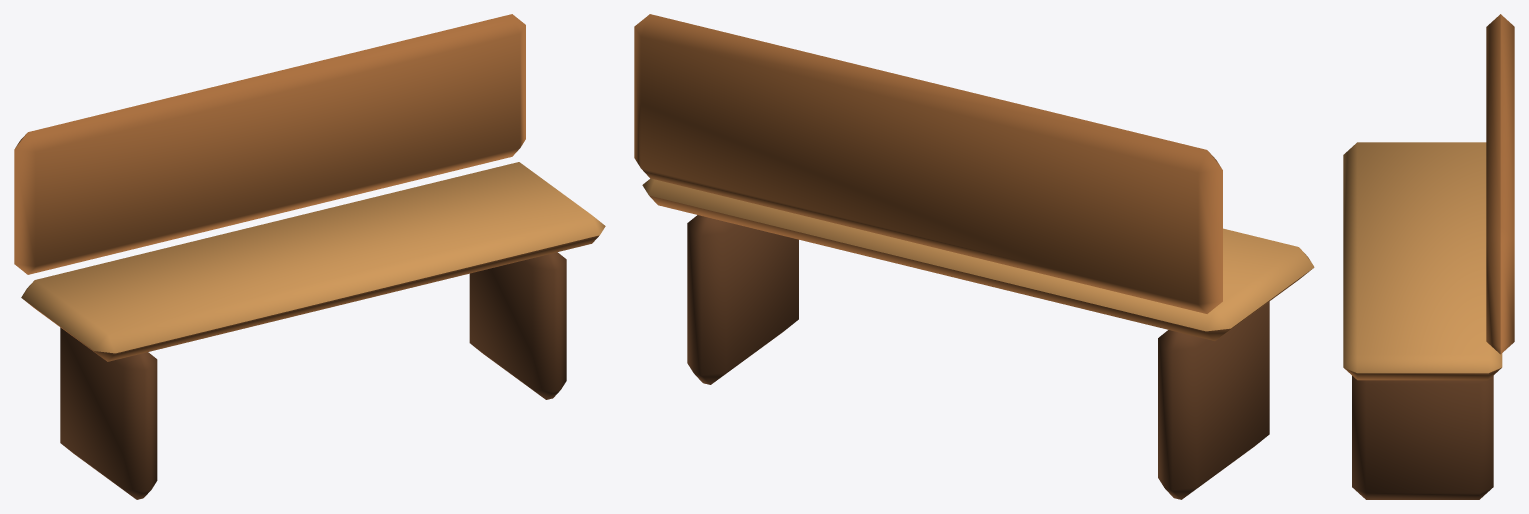
File: P_MedBench.fbx
The picture shows the model from 3 angles, left to right: view 1: azimuth 30°, elevation 25°; view 2: azimuth 150°, elevation 25°; view 3: azimuth 270°, elevation 25°; orthographic projection. The views are drawn at different scales.
Visible parts, largest first — view 1: M_Bench; view 2: M_Bench; view 3: M_Bench.
Boxes of the visible parts, box(x1,y1,x2,y2) form: M_Bench: box(14, 14, 605, 499); M_Bench: box(634, 14, 1314, 499); M_Bench: box(1343, 14, 1514, 499).
Size of the model in its own units: 1.5 by 0.9 by 0.485.
1 material, 1 textured.
